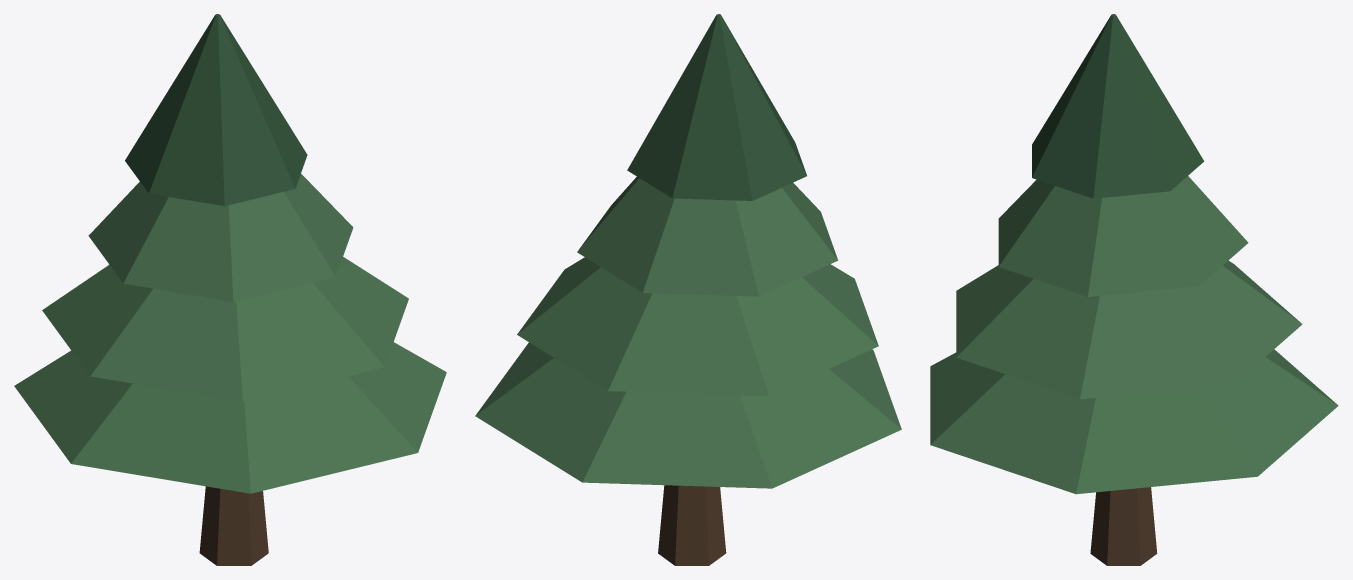
The model's file is pine_valley_1.glb.
The picture shows the model from 3 angles, left to right: view 1: azimuth 30°, elevation 25°; view 2: azimuth 150°, elevation 25°; view 3: azimuth 270°, elevation 25°; orthographic projection. The views are drawn at different scales.
Parts seen in each view (by area): view 1: pine_valley_1; view 2: pine_valley_1; view 3: pine_valley_1.
Boxes of the visible parts, <box> form: pine_valley_1: <box>14,14,446,565</box>; pine_valley_1: <box>475,14,901,565</box>; pine_valley_1: <box>930,14,1338,565</box>.
Size of what is drawn, in the model's own units: 3.38 by 4.71 by 3.3.
